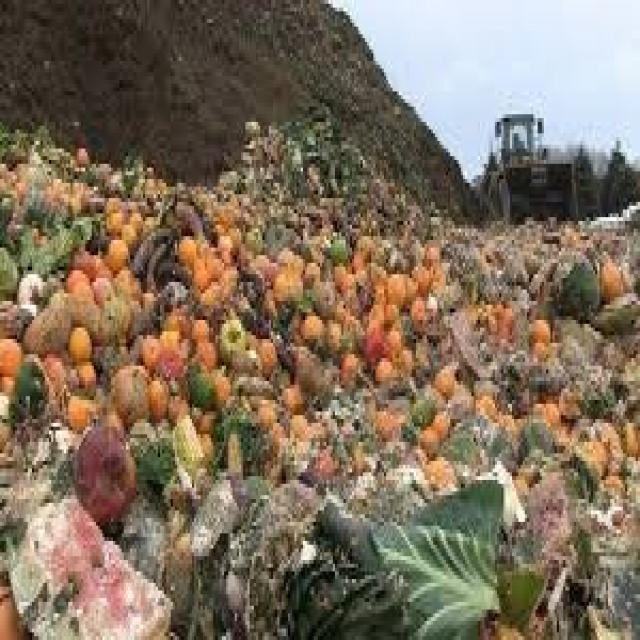food_waste: (33, 192, 609, 588)
